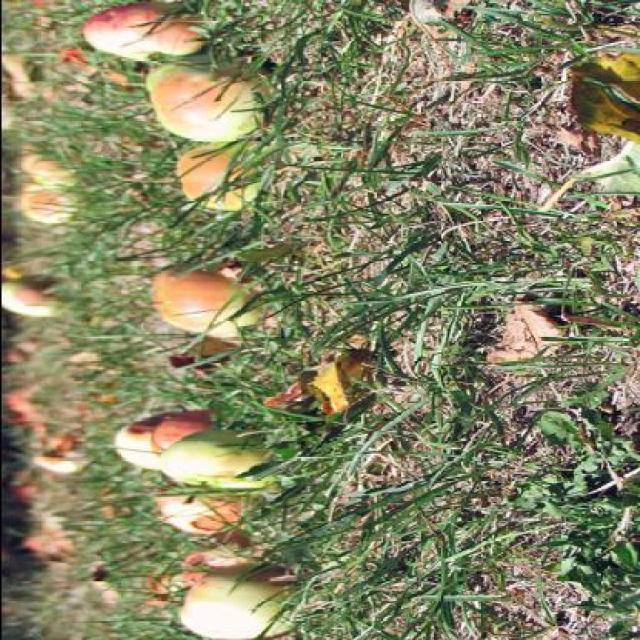Mushroom: (142, 54, 272, 150), (169, 564, 305, 638), (146, 270, 265, 353), (69, 8, 226, 62), (111, 410, 234, 472), (170, 136, 268, 210), (156, 432, 272, 490), (152, 484, 248, 536), (1, 266, 74, 314)
